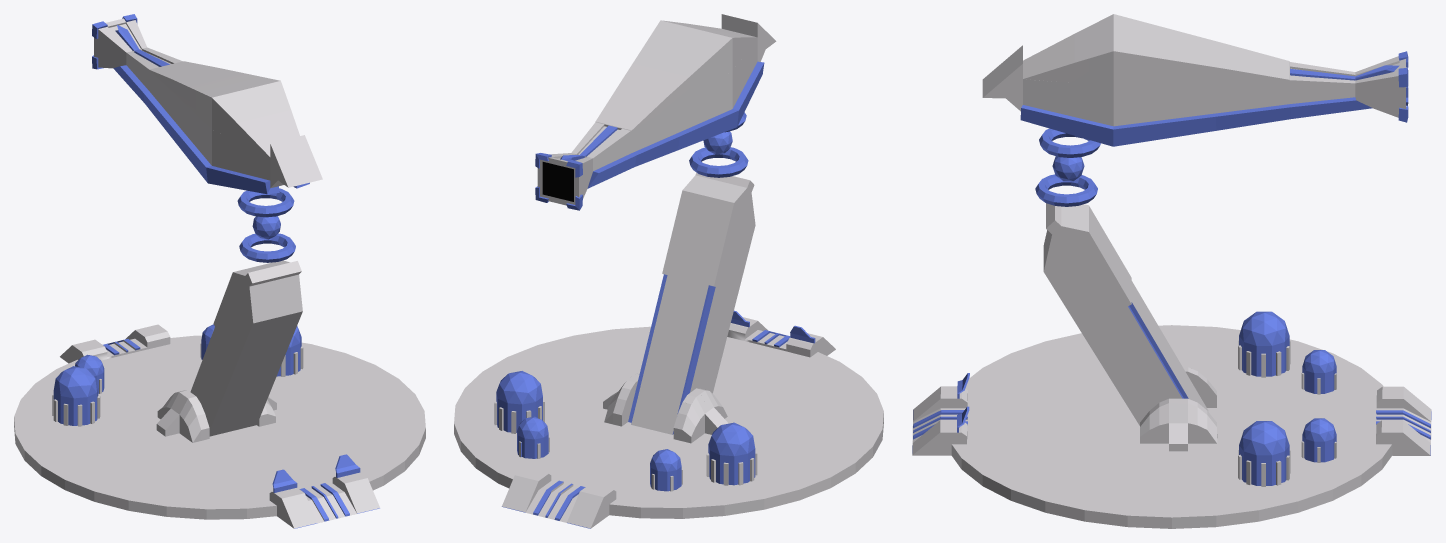
The model's file is sparky.fbx.
3 views of the same model, side by side, from view 1: azimuth 30°, elevation 25°; view 2: azimuth 150°, elevation 25°; view 3: azimuth 270°, elevation 25° (orthographic). The views are drawn at different scales.
Parts seen in each view (by area): view 1: Cilindro, Plano, Cubo, Cubo.006, Esfera geodésica.001, Cubo.004, Cubo.005, Rosca.002, Rosca.001, Esfera geodésica.002, Esfera geodésica, Esfera geodésica.004; view 2: Cilindro, Plano, Cubo, Cubo.005, Esfera geodésica.001, Esfera geodésica.002, Cubo.006, Cubo.004, Esfera geodésica.003, Esfera geodésica.004, Rosca.002, Cubo.003; view 3: Cilindro, Plano, Cubo, Cubo.006, Cubo.005, Cubo.003, Esfera geodésica.001, Esfera geodésica.002, Esfera geodésica.003, Esfera geodésica.004, Rosca.002, Rosca.001 (+2 smaller).
Boxes of the visible parts, left/top/right/bottom form: Cilindro: left=14, top=335, right=425, bottom=519; Plano: left=92, top=14, right=322, bottom=194; Cubo: left=190, top=260, right=302, bottom=436; Cubo.006: left=269, top=454, right=379, bottom=528; Esfera geodésica.001: left=52, top=366, right=100, bottom=426; Cubo.004: left=156, top=390, right=209, bottom=442; Cubo.005: left=60, top=324, right=170, bottom=363; Rosca.002: left=239, top=233, right=295, bottom=262; Rosca.001: left=237, top=188, right=294, bottom=217; Esfera geodésica.002: left=276, top=326, right=303, bottom=376; Esfera geodésica: left=252, top=216, right=280, bottom=239; Esfera geodésica.004: left=75, top=354, right=104, bottom=393; Cilindro: left=454, top=326, right=883, bottom=518; Plano: left=535, top=14, right=776, bottom=210; Cubo: left=628, top=172, right=755, bottom=434; Cubo.005: left=501, top=468, right=616, bottom=528; Esfera geodésica.001: left=706, top=422, right=757, bottom=485; Esfera geodésica.002: left=494, top=371, right=544, bottom=433; Cubo.006: left=727, top=310, right=835, bottom=357; Cubo.004: left=673, top=388, right=728, bottom=443; Esfera geodésica.003: left=517, top=416, right=549, bottom=458; Esfera geodésica.004: left=650, top=449, right=682, bottom=491; Rosca.002: left=689, top=147, right=748, bottom=177; Cubo.003: left=603, top=373, right=639, bottom=426; Cilindro: left=951, top=325, right=1392, bottom=528; Plano: left=982, top=14, right=1408, bottom=146; Cubo: left=1043, top=203, right=1208, bottom=425; Cubo.006: left=912, top=373, right=969, bottom=455; Cubo.005: left=1376, top=386, right=1431, bottom=455; Cubo.003: left=1140, top=398, right=1217, bottom=451; Esfera geodésica.001: left=1238, top=311, right=1290, bottom=377; Esfera geodésica.002: left=1238, top=421, right=1290, bottom=486; Esfera geodésica.003: left=1301, top=418, right=1336, bottom=462; Esfera geodésica.004: left=1301, top=350, right=1336, bottom=394; Rosca.002: left=1035, top=174, right=1097, bottom=206; Rosca.001: left=1039, top=128, right=1100, bottom=157.
Bounding box in the file's own units: 578 × 561 × 660.
